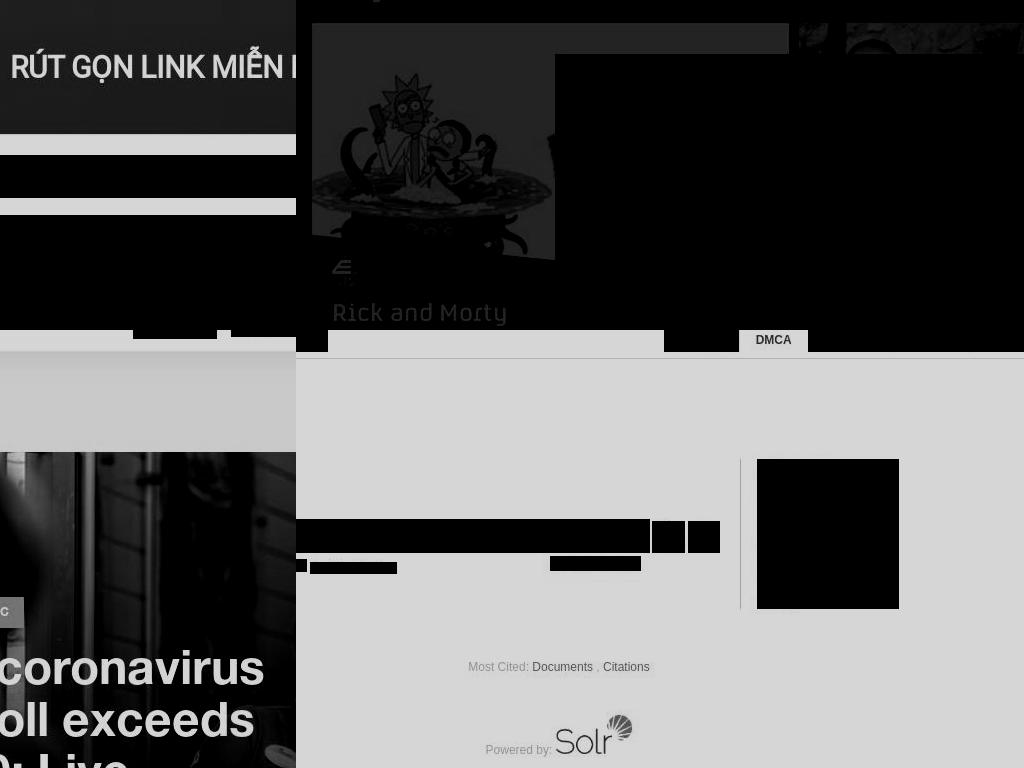button: (813, 295, 918, 319), (807, 330, 893, 352), (892, 330, 969, 352), (664, 330, 739, 352), (738, 330, 808, 352), (550, 556, 641, 571), (969, 330, 1024, 352), (296, 330, 328, 352)
field: (0, 155, 296, 198), (296, 519, 650, 553), (652, 521, 685, 553), (688, 521, 720, 553), (296, 559, 307, 572)
heading: (0, 650, 265, 768), (757, 459, 899, 609), (0, 51, 296, 84), (819, 302, 1018, 327), (332, 302, 508, 327)
image: (0, 215, 296, 330), (745, 88, 842, 184), (555, 715, 633, 754), (332, 250, 358, 287), (819, 250, 845, 287)
link: (532, 660, 594, 674), (603, 660, 651, 674), (681, 333, 723, 347)
text: (0, 362, 296, 452), (587, 258, 991, 314), (587, 202, 1001, 230), (485, 742, 556, 757), (310, 562, 397, 574), (468, 660, 533, 674), (133, 330, 217, 339), (593, 660, 604, 674)
